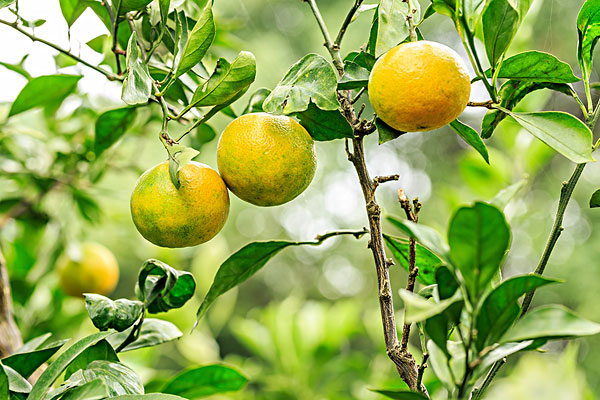orange: (216, 109, 319, 206), (367, 39, 471, 132), (130, 158, 230, 249), (57, 242, 120, 296)
